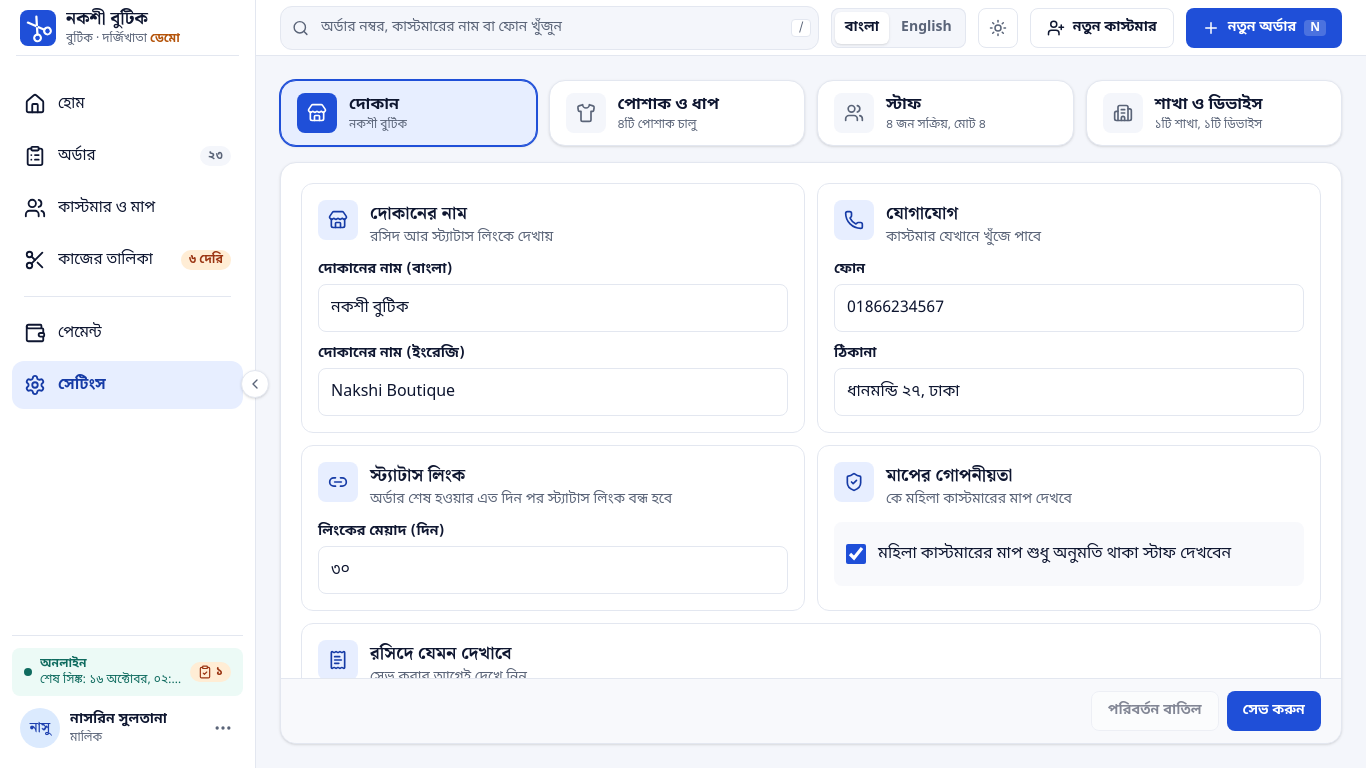
Test: Shop settings › turns the boutique’s women’s measurement restriction off
Click the checkbox labelled "মহিলা কাস্টমারের মাপ শুধু অনুমতি থাকা স্টাফ দেখবেন" at point(856, 554), box [846,544,866,564]
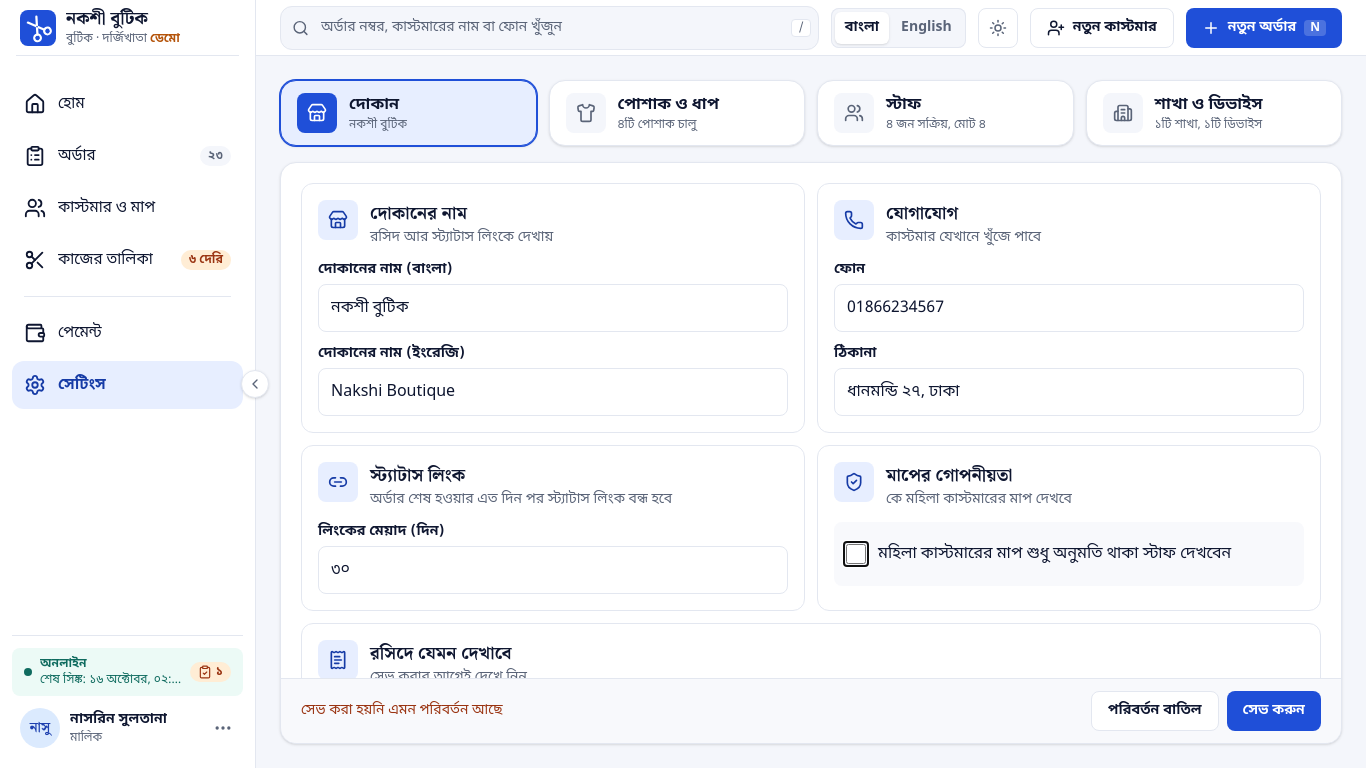
Click the button "সেভ করুন" at point(1274, 711), box [1227,691,1321,731]
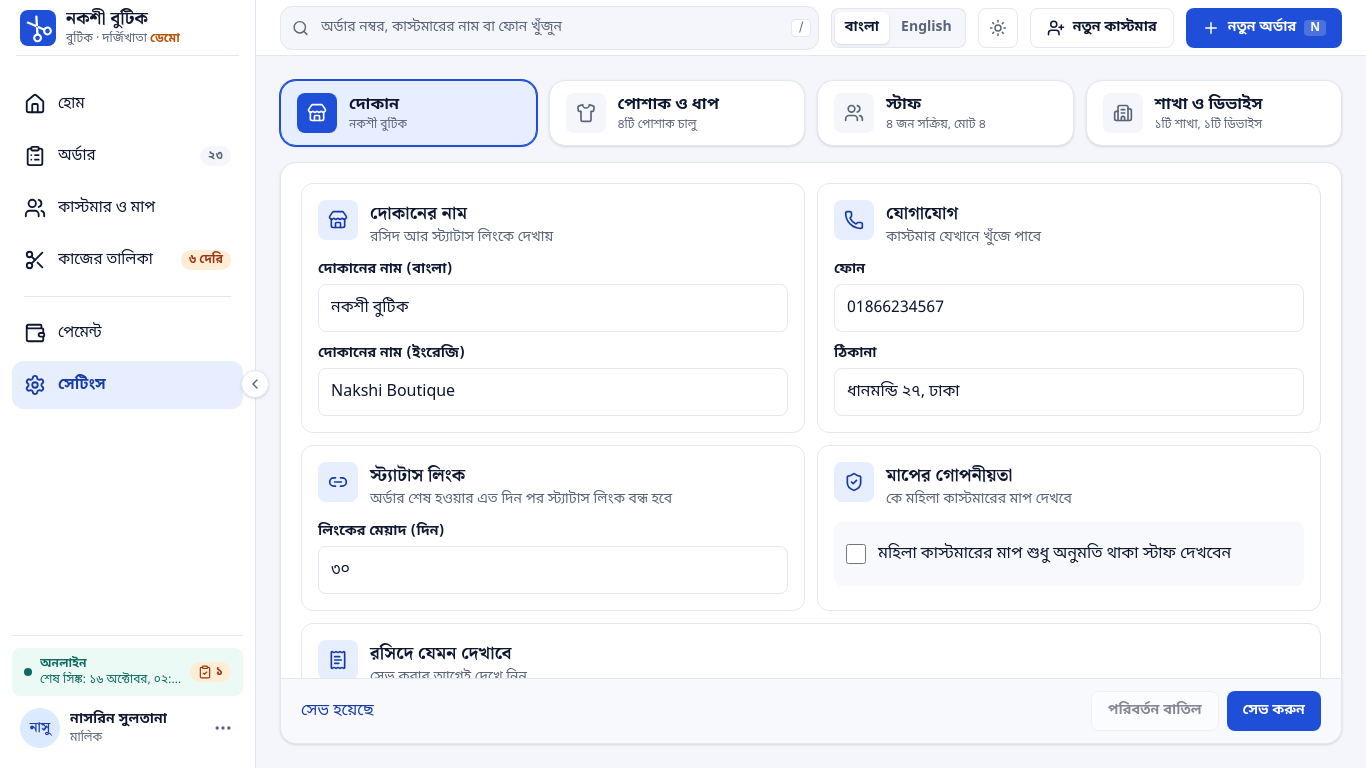
Expected: the text "সেভ হয়েছে" is shown, [301,699,374,723]
